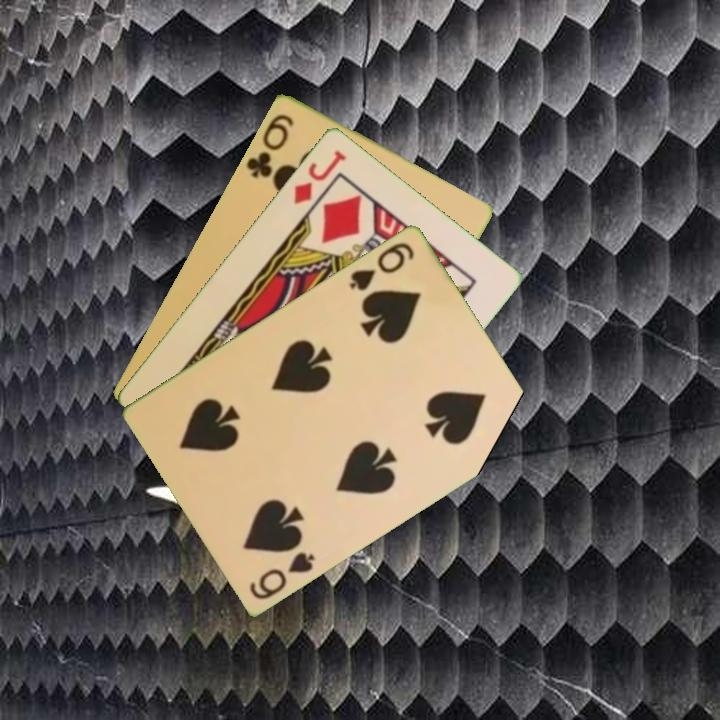6c: (242, 109, 296, 181)
6s: (346, 238, 418, 293), (246, 547, 318, 602)
Jd: (289, 146, 350, 207)
